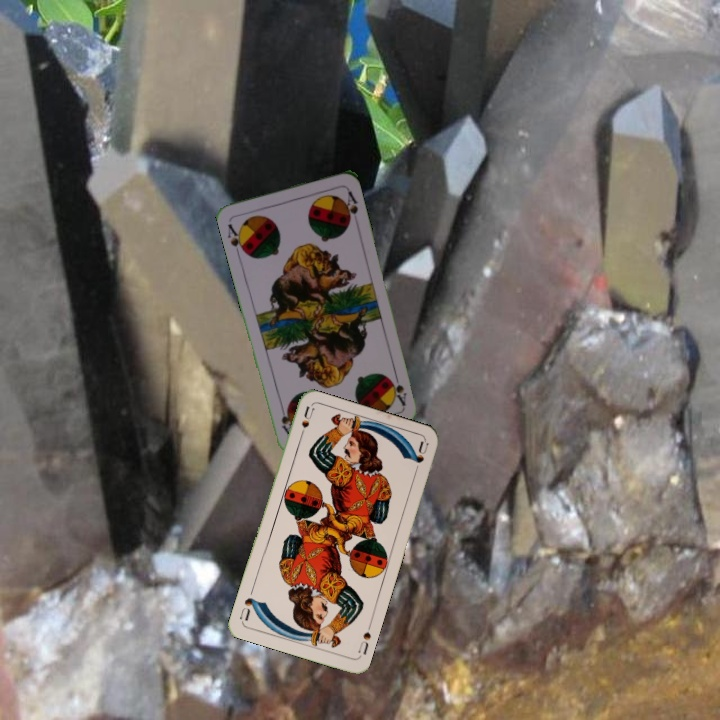SA: (224, 220, 248, 257), (387, 368, 409, 408)
SU: (295, 403, 317, 443), (354, 620, 374, 657)
